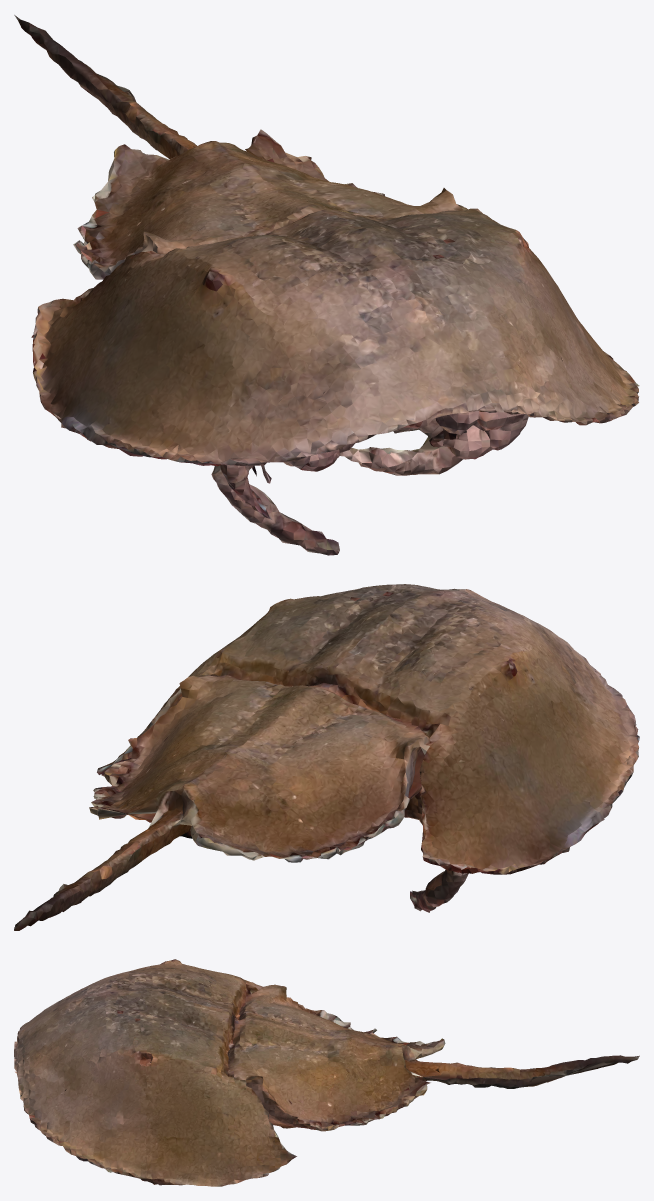
The model's file is limule.glb.
The picture shows the model from 3 angles, top to bottom: view 1: azimuth 30°, elevation 25°; view 2: azimuth 150°, elevation 25°; view 3: azimuth 270°, elevation 25°; orthographic projection. The views are drawn at different scales.
Size of the model in its own units: 3.1 by 1.88 by 5.4.
1 material, 1 textured.
